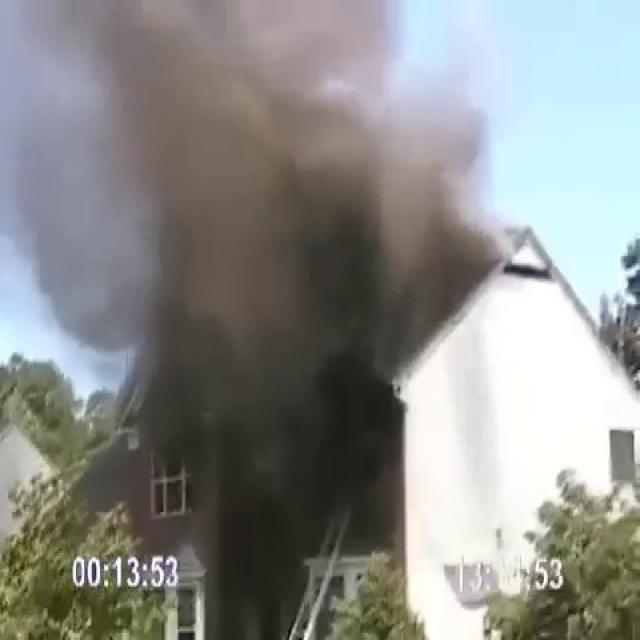Smoke: (35, 0, 519, 454)
